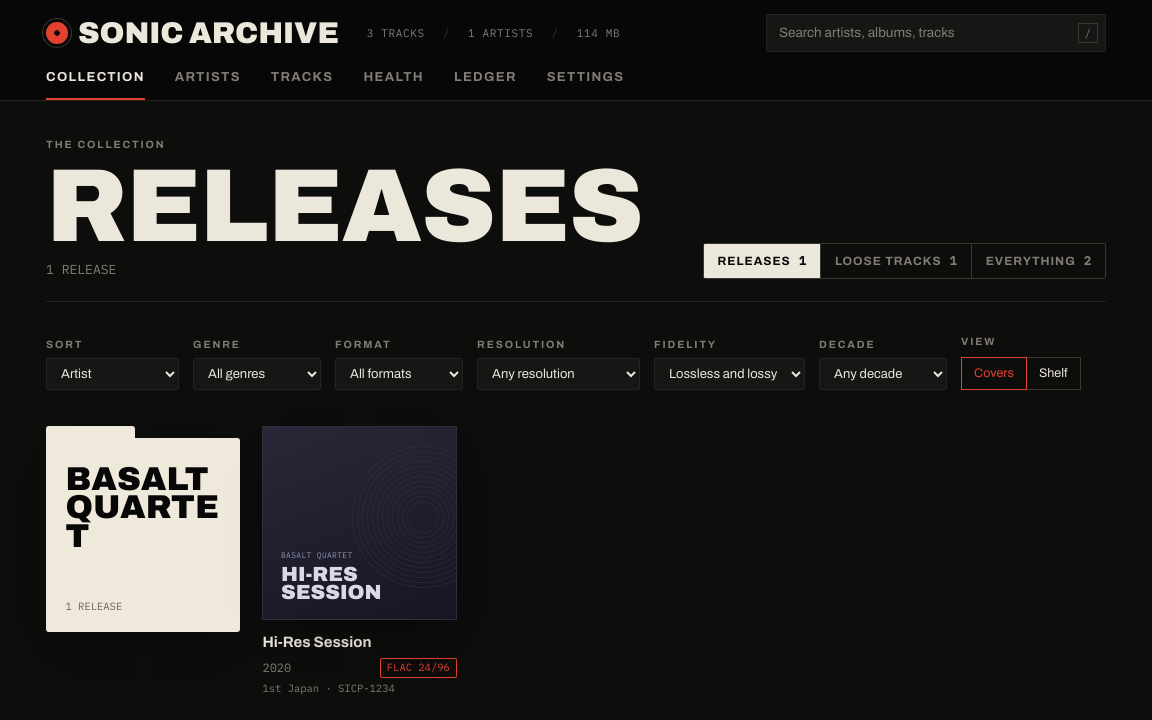
Test case: search › submits from the masthead and shows grouped results
Type "basalt" into the search field named "Search the collection" at (936, 33), box left=766, top=14, right=1106, bottom=52
Then press Enter
(page scrolled)
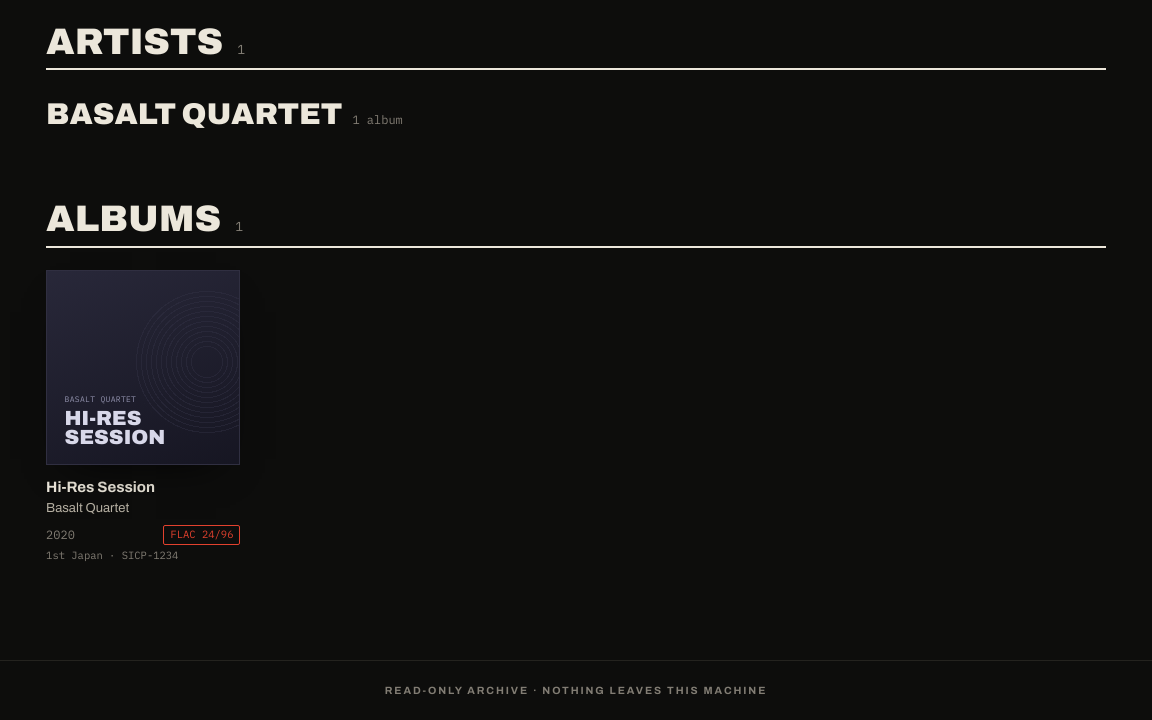
Check: the heading "Artists 1" is shown, box left=46, top=24, right=1106, bottom=70
Check: the element "Albums" shows "Hi-Res Session", box left=46, top=270, right=240, bottom=465
